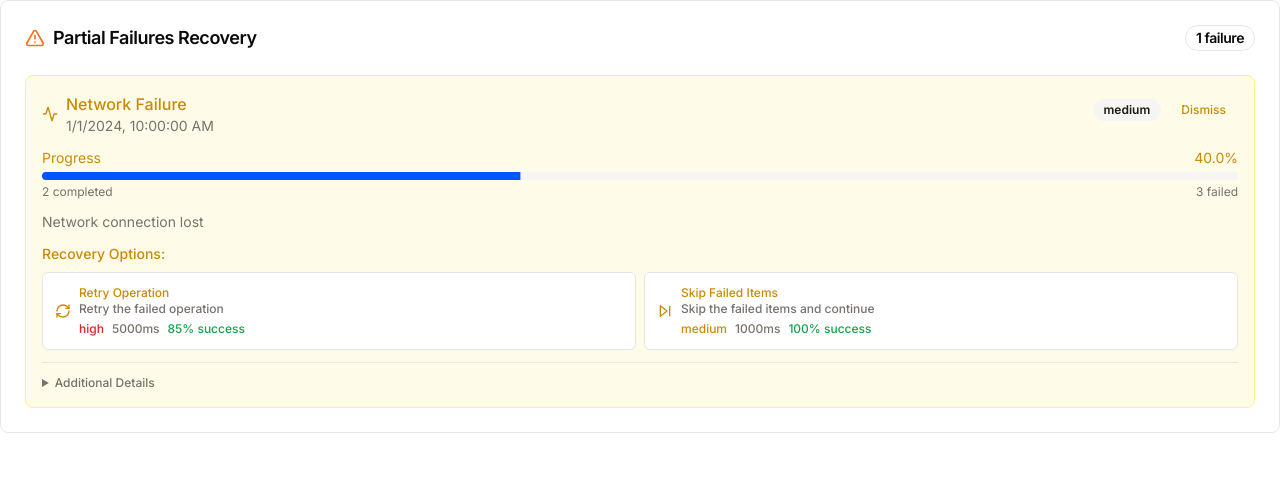
Test: ErrorRecoveryDisplay › Recovery Loading State › shows loading state while recovery is in progress
Click the text "Retry Operation" at x=124, y=292, box [79, 285, 169, 300]
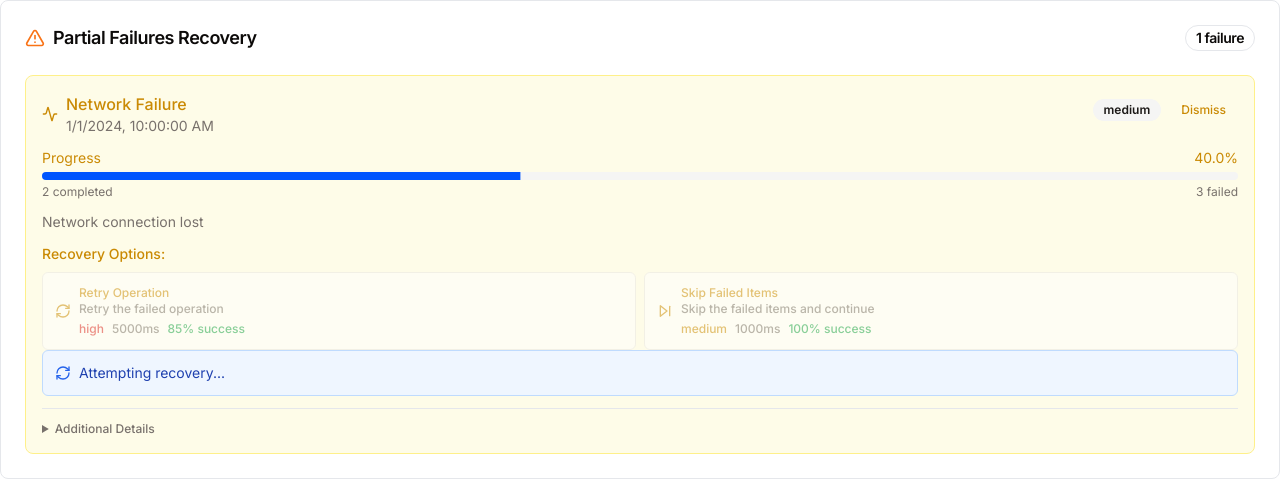
Check: the text "Attempting recovery..." is shown, box [79, 363, 225, 383]
Check: the button that starts with "Retry Operation" is disabled, box [42, 272, 636, 350]
Check: the button that starts with "Skip Failed Items" is disabled, box [644, 272, 1238, 350]
